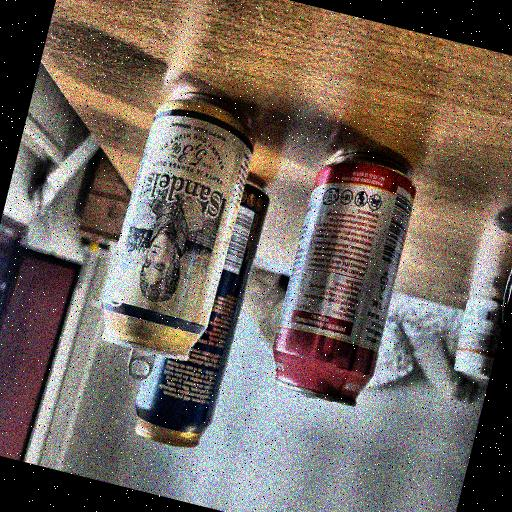koff: (264, 123, 447, 408)
sandels: (96, 89, 259, 361)
